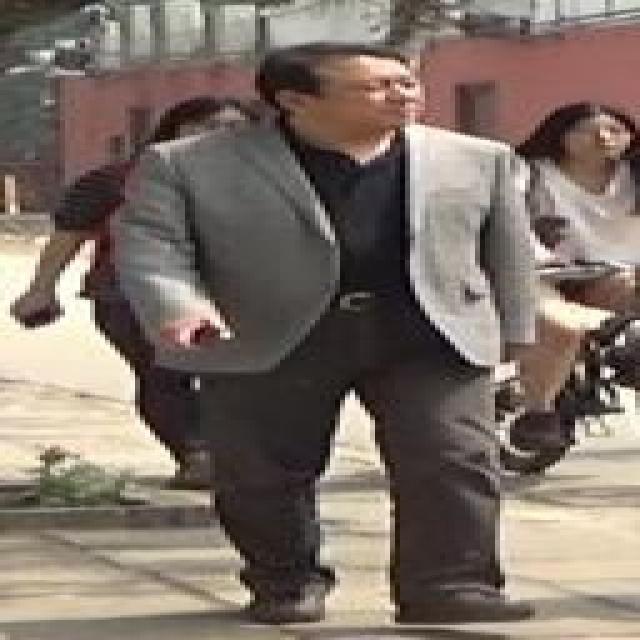adult: (103, 48, 548, 628), (18, 104, 296, 464), (490, 98, 640, 430)
